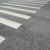zebra: (1, 1, 48, 43)
